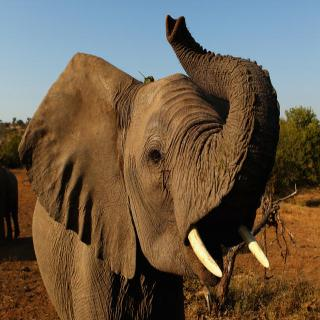Elephant: (14, 13, 282, 320)
